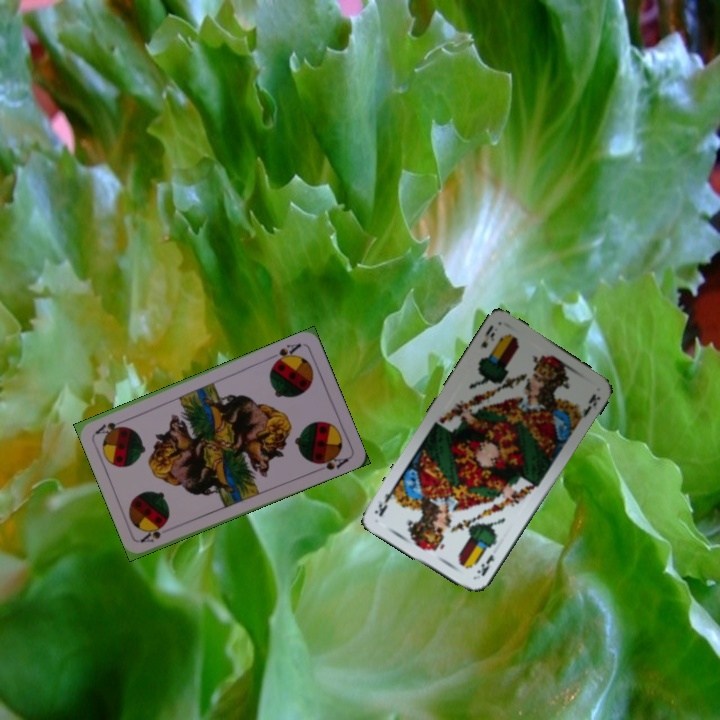EK: (472, 550, 497, 579), (476, 321, 498, 352)
SA: (269, 339, 304, 367), (137, 521, 168, 545)
